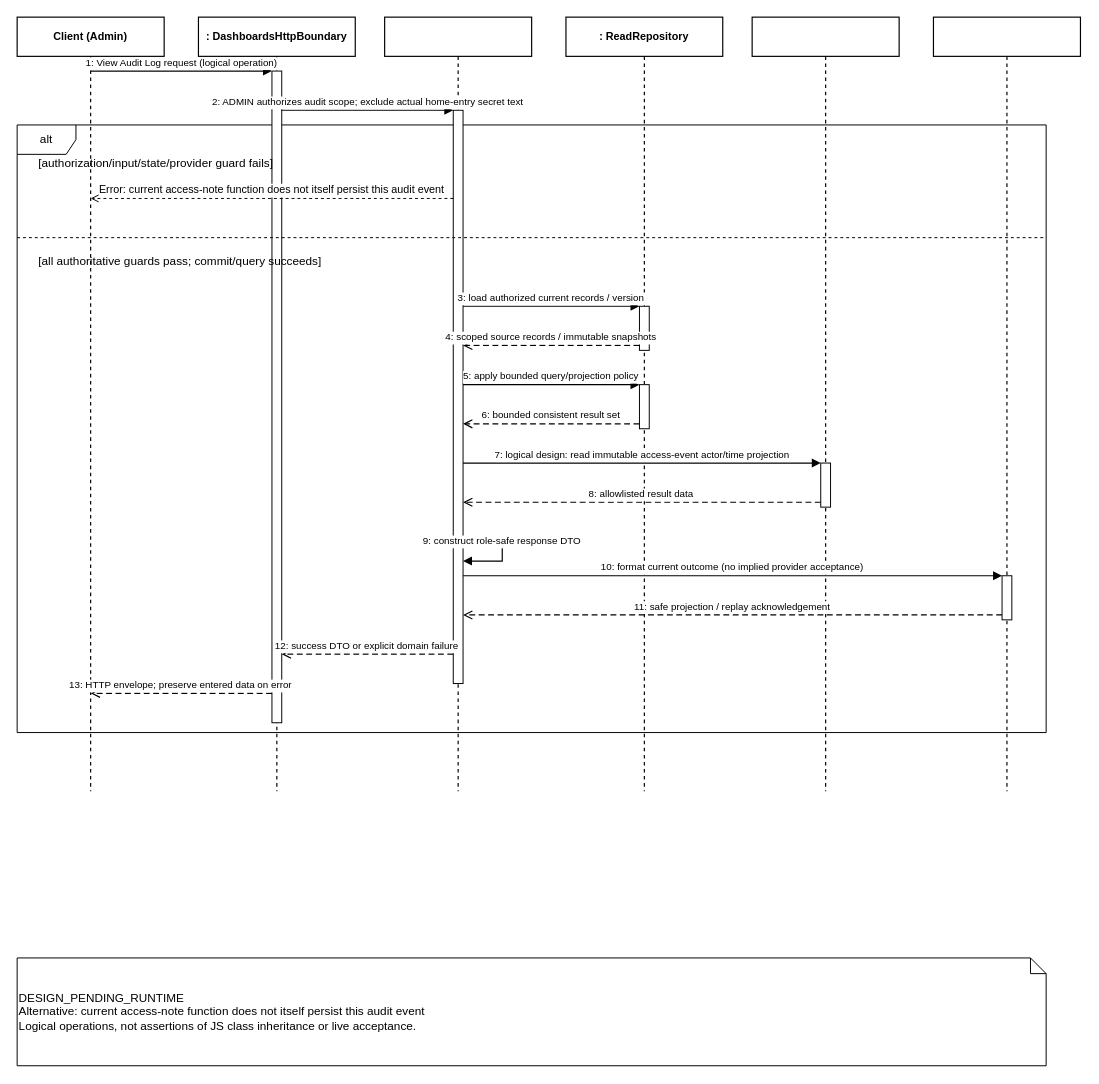
The diagram is 1099 pixels wide and 1084 high, and some of its shapes have lost their labels. The box of each missing label's shape, as (x1, y1, x2, y2) in pixels:
: DashboardsService: (384, 16, 532, 791)
: QueryProjection: (751, 16, 899, 791)
: ResultProjection: (932, 16, 1081, 791)
